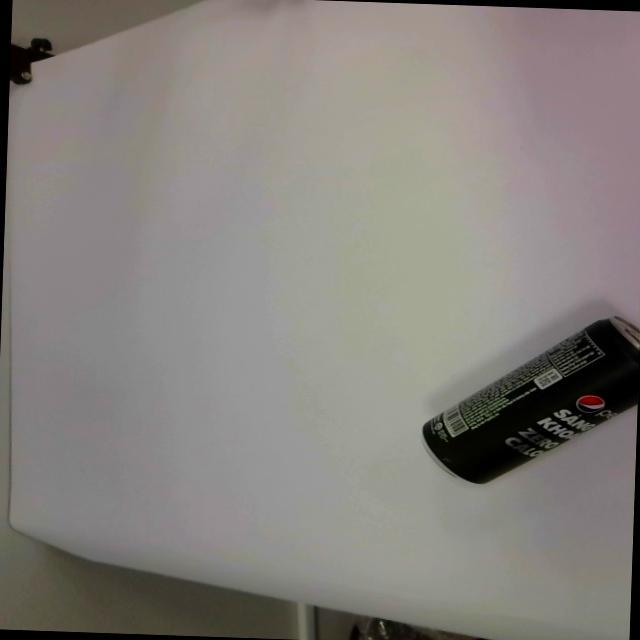debris: (417, 309, 640, 490)
